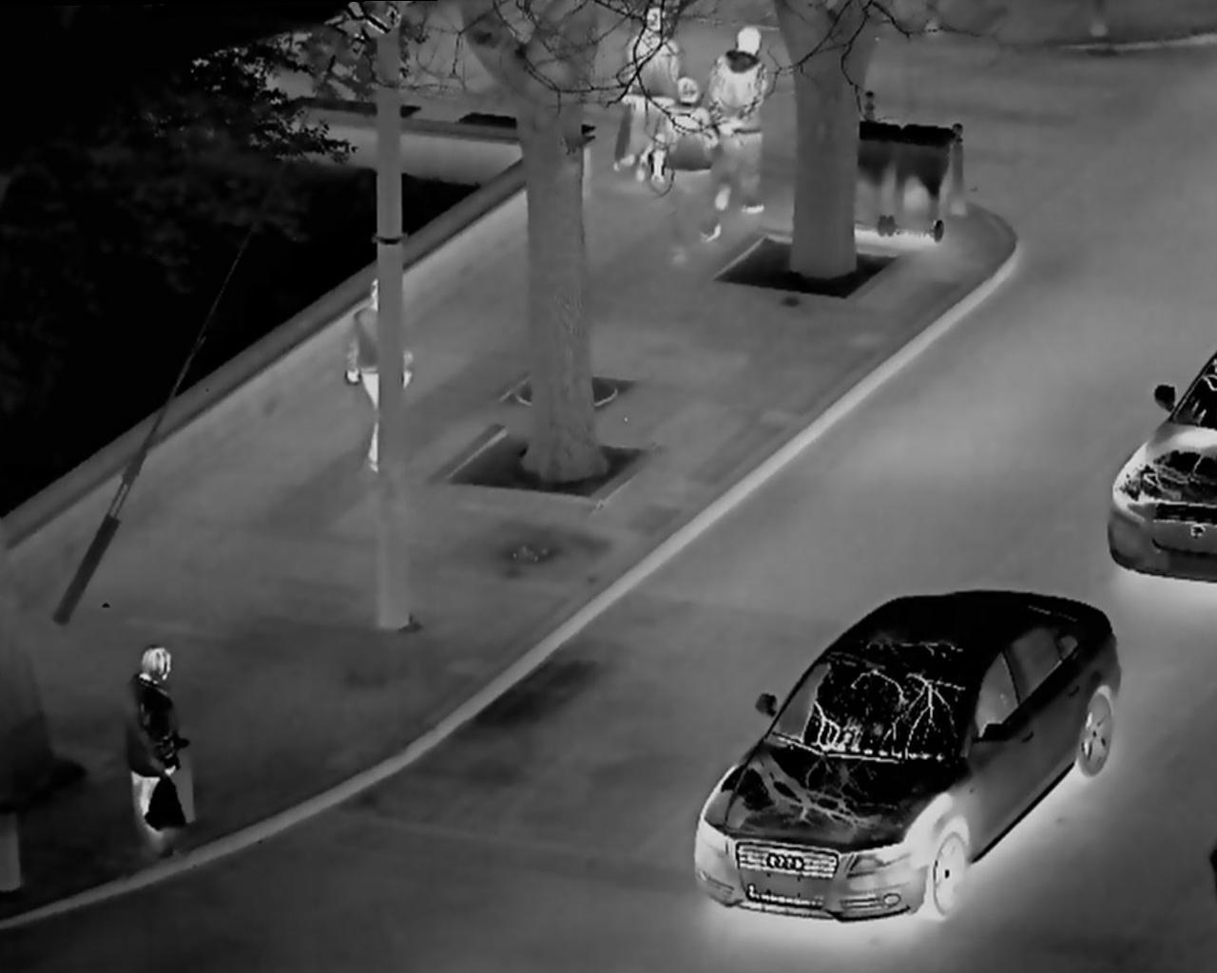person: (109, 629, 204, 863), (656, 56, 725, 294), (338, 274, 420, 461), (706, 26, 779, 218), (626, 9, 686, 182)
